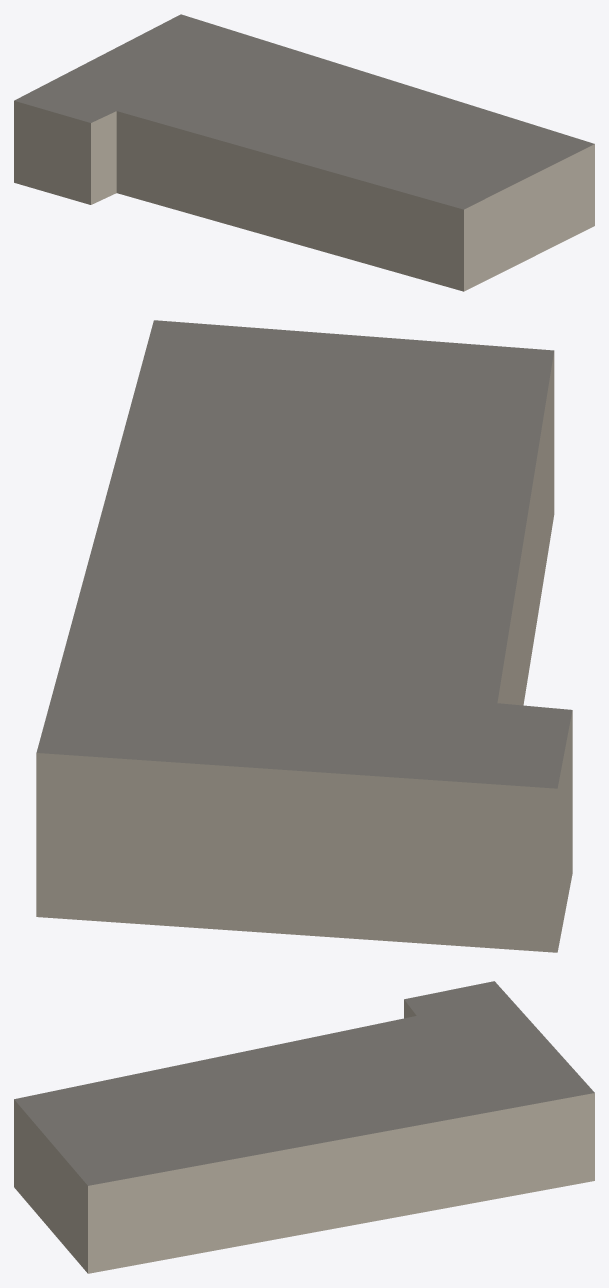
3 views of the same model, one above another, from view 1: azimuth 30°, elevation 25°; view 2: azimuth 150°, elevation 25°; view 3: azimuth 270°, elevation 25° (orthographic). The views are drawn at different scales.
Visible parts, largest first — view 1: HP-w505643427; view 2: HP-w505643427; view 3: HP-w505643427.
Part boxes in pixels (x1,y1,x2,y2): HP-w505643427: (14,14,594,291); HP-w505643427: (36,320,572,952); HP-w505643427: (14,981,594,1273).
Bounding box in the file's own units: 74.88 × 15 × 89.77.
